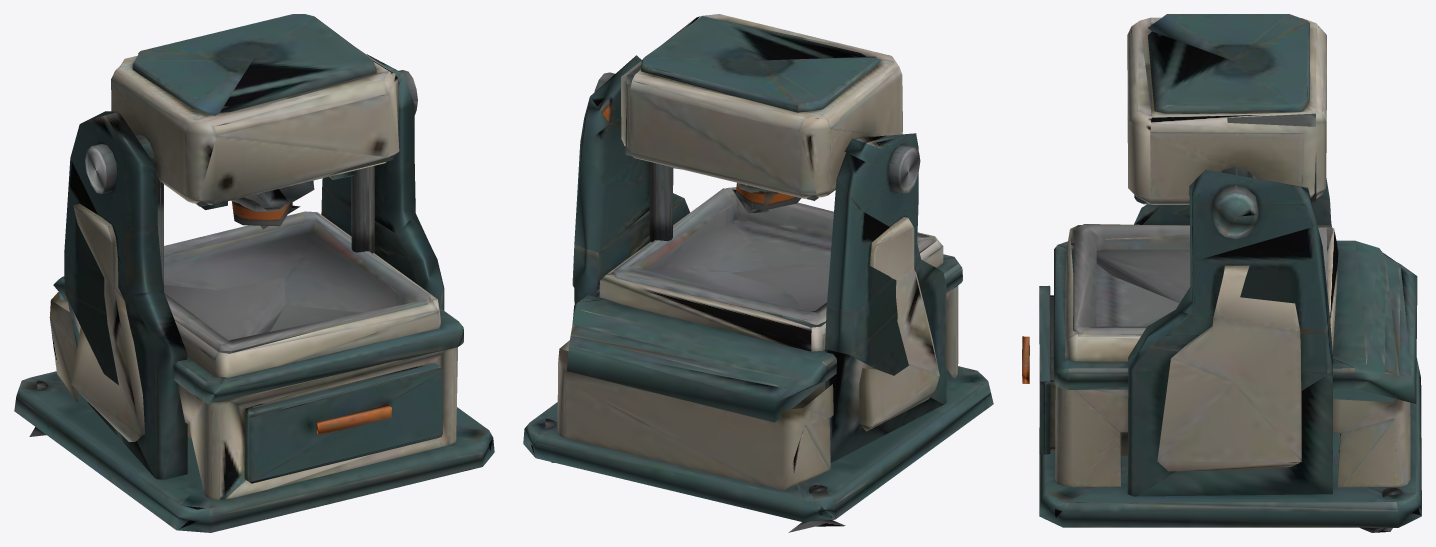
Rendered from fabricator-lod1.e9345e779a7a.glb.
The picture shows the model from 3 angles, left to right: view 1: azimuth 30°, elevation 25°; view 2: azimuth 150°, elevation 25°; view 3: azimuth 270°, elevation 25°; orthographic projection. The views are drawn at different scales.
Visible parts, largest first — view 1: geometry_0; view 2: geometry_0; view 3: geometry_0.
Part boxes in pixels (x1=…): geometry_0: x1=14, y1=14, x2=494, y2=532; geometry_0: x1=523, y1=14, x2=993, y2=532; geometry_0: x1=1022, y1=14, x2=1421, y2=532.
Bounding box in the file's own units: 0.8009 × 0.9355 × 0.8385.
1 material, 1 textured.
